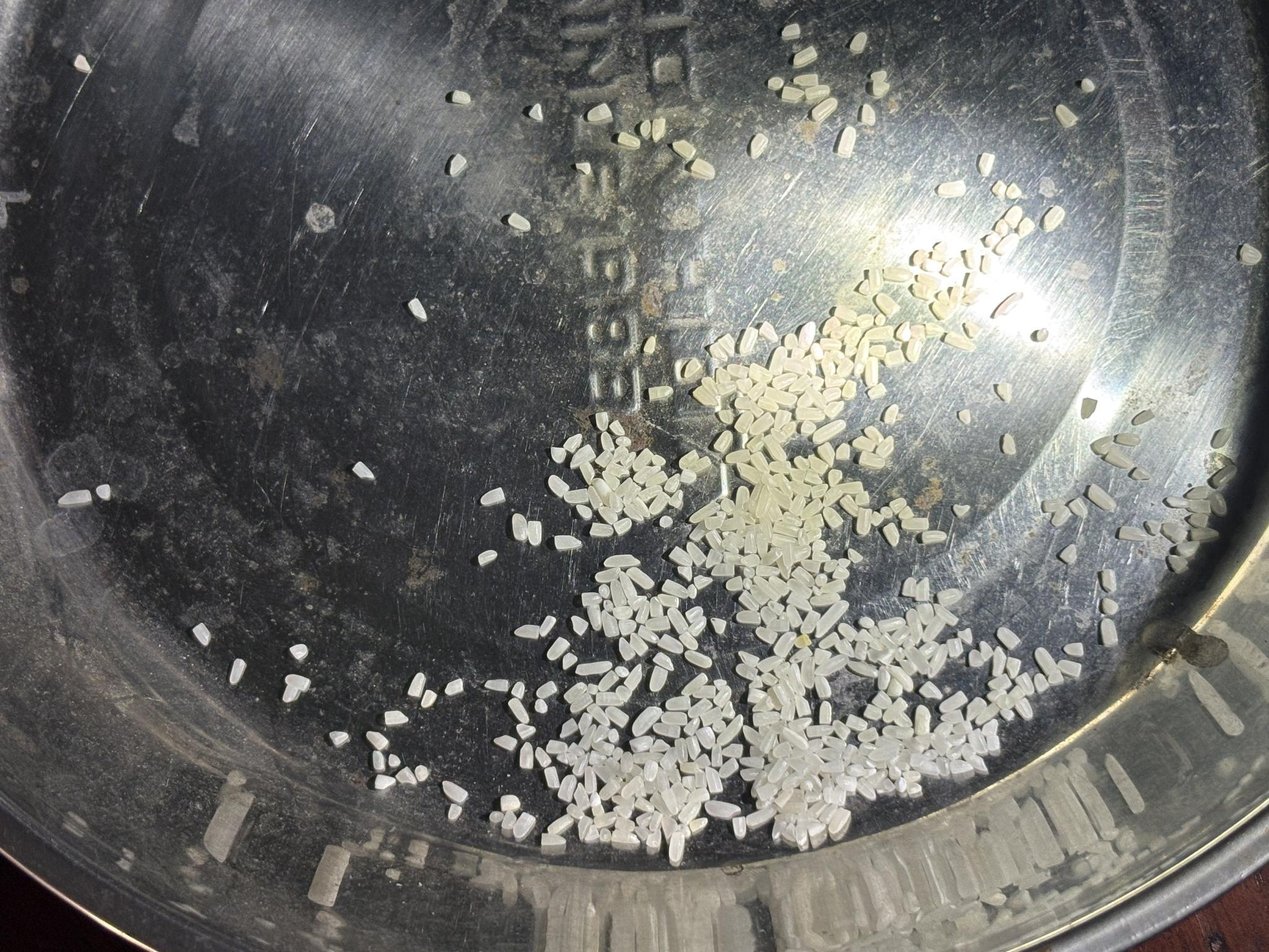Rice-th-y-nh: (815, 598, 849, 639), (1034, 646, 1065, 685), (630, 704, 663, 738), (812, 418, 846, 446), (717, 713, 744, 747), (1087, 483, 1118, 512), (616, 570, 640, 607), (815, 652, 849, 678), (746, 803, 778, 830), (666, 830, 689, 867), (784, 662, 807, 698), (736, 325, 762, 356), (927, 644, 950, 679), (681, 671, 709, 699), (961, 747, 989, 775), (904, 646, 930, 676), (762, 433, 788, 462), (889, 664, 915, 693), (779, 726, 809, 751), (625, 566, 655, 591), (763, 386, 797, 408), (689, 500, 720, 524), (772, 630, 797, 659), (556, 773, 579, 804), (910, 754, 941, 777), (753, 576, 780, 602), (569, 444, 596, 470), (586, 701, 611, 729), (736, 461, 764, 486), (741, 724, 766, 752), (652, 719, 682, 742), (938, 690, 968, 713), (796, 320, 819, 350), (714, 367, 737, 397), (598, 776, 624, 802), (678, 798, 703, 825), (687, 695, 714, 720), (922, 615, 946, 643), (657, 632, 685, 656), (661, 577, 689, 601), (692, 386, 720, 410), (441, 780, 469, 804), (753, 486, 774, 518), (868, 743, 901, 763), (604, 704, 630, 729), (875, 292, 901, 317), (767, 485, 792, 511), (649, 792, 674, 818), (771, 472, 795, 499), (932, 602, 959, 626), (546, 813, 574, 836), (647, 666, 670, 694), (809, 590, 841, 610), (882, 723, 914, 743), (684, 648, 713, 670), (571, 783, 593, 812), (592, 477, 613, 507), (749, 412, 775, 436), (546, 636, 570, 662), (811, 98, 837, 122), (748, 361, 774, 385), (507, 697, 530, 724), (799, 609, 822, 636), (514, 620, 541, 643), (623, 663, 645, 691), (633, 463, 661, 485), (967, 728, 989, 756), (577, 723, 598, 752), (735, 397, 764, 418), (996, 626, 1021, 650), (695, 725, 718, 751), (668, 545, 694, 568), (965, 696, 988, 722), (913, 601, 936, 627), (995, 233, 1021, 256), (757, 652, 784, 674), (964, 243, 986, 270), (704, 766, 725, 794), (563, 681, 587, 705), (569, 691, 594, 714), (787, 578, 813, 600), (783, 355, 809, 377), (616, 636, 637, 663), (816, 441, 837, 468), (865, 266, 886, 293), (786, 592, 813, 613), (766, 685, 786, 713), (821, 506, 844, 530), (791, 566, 815, 589), (547, 474, 570, 498), (975, 703, 999, 726), (822, 484, 845, 508), (901, 515, 930, 534), (585, 602, 604, 631), (766, 613, 791, 635), (648, 491, 670, 516), (628, 632, 650, 657), (632, 447, 654, 472), (590, 763, 615, 785), (875, 435, 897, 460), (686, 541, 707, 567), (792, 693, 813, 719), (913, 577, 934, 603), (595, 565, 621, 586), (735, 608, 762, 628), (771, 371, 798, 391), (755, 624, 779, 646), (598, 669, 620, 693), (652, 651, 676, 673), (734, 661, 759, 682), (655, 591, 681, 611), (587, 103, 613, 123), (749, 133, 769, 159), (749, 451, 771, 474), (569, 614, 591, 637), (718, 756, 740, 779), (839, 494, 860, 518), (688, 615, 709, 639), (789, 373, 813, 394), (407, 298, 428, 322), (730, 815, 750, 840), (833, 304, 858, 324), (542, 765, 562, 790), (1175, 539, 1201, 558), (634, 599, 653, 625), (673, 737, 691, 764), (807, 454, 829, 476), (749, 584, 771, 606), (834, 638, 857, 659), (631, 496, 652, 519), (637, 624, 660, 645), (855, 779, 876, 802), (507, 212, 531, 232), (823, 734, 847, 754), (793, 46, 817, 66), (591, 738, 615, 758), (628, 775, 648, 799), (691, 158, 715, 178), (407, 672, 426, 697), (713, 684, 732, 709), (788, 715, 813, 734), (1057, 659, 1082, 678), (693, 682, 718, 701), (874, 665, 893, 690), (1116, 430, 1141, 449), (638, 484, 663, 503), (820, 577, 846, 595), (684, 734, 702, 760), (771, 531, 797, 549), (228, 659, 246, 685), (772, 520, 798, 538), (792, 824, 810, 850), (831, 719, 852, 741), (678, 449, 700, 470), (768, 575, 790, 596), (738, 591, 760, 612), (617, 616, 638, 638), (836, 773, 858, 794), (845, 713, 868, 733), (1015, 673, 1035, 696), (917, 640, 940, 660), (366, 731, 389, 751), (704, 511, 727, 531), (806, 722, 833, 739), (919, 681, 943, 700), (493, 734, 517, 753), (788, 479, 812, 498), (785, 604, 803, 629), (285, 673, 310, 691), (725, 447, 750, 465), (711, 561, 736, 579), (578, 460, 596, 485), (720, 516, 746, 533), (678, 630, 699, 651), (872, 689, 893, 710), (559, 718, 580, 739), (747, 381, 768, 402), (761, 546, 783, 566), (823, 399, 845, 419), (582, 822, 602, 844), (538, 615, 557, 638), (714, 430, 733, 453), (790, 645, 813, 664), (613, 816, 636, 835), (737, 649, 760, 668), (708, 743, 726, 767), (644, 470, 668, 488), (598, 506, 619, 526), (772, 409, 792, 430), (563, 433, 583, 454), (591, 724, 611, 745), (663, 472, 682, 494), (534, 747, 553, 769), (353, 461, 375, 480), (683, 716, 702, 738), (500, 809, 519, 831), (900, 576, 919, 598), (726, 362, 749, 380), (989, 673, 1012, 691), (193, 623, 211, 646), (1005, 656, 1022, 680), (769, 459, 793, 476), (755, 563, 779, 580), (566, 802, 586, 822), (940, 709, 965, 725), (805, 84, 830, 100), (485, 678, 510, 694), (836, 358, 855, 379), (515, 722, 536, 741), (613, 517, 634, 536), (396, 767, 417, 786), (812, 647, 833, 666), (623, 505, 644, 524), (945, 637, 964, 658), (837, 622, 858, 641), (759, 605, 778, 626), (601, 470, 620, 491), (819, 632, 841, 650), (722, 742, 744, 760), (556, 749, 578, 767), (549, 445, 568, 465), (885, 678, 904, 698), (704, 548, 723, 568), (705, 529, 723, 550), (896, 321, 914, 342), (634, 796, 655, 814), (854, 311, 875, 329), (444, 678, 465, 696), (561, 651, 579, 672), (790, 546, 811, 564), (794, 73, 819, 88), (757, 396, 779, 413), (612, 603, 634, 620), (819, 336, 842, 352), (374, 774, 397, 790), (617, 132, 640, 148), (577, 712, 593, 735), (575, 503, 594, 522), (594, 449, 613, 468), (893, 711, 913, 729), (863, 703, 883, 721), (1033, 673, 1051, 693), (826, 468, 844, 488), (599, 431, 616, 452), (619, 751, 636, 772), (781, 511, 802, 528), (679, 760, 700, 777), (477, 549, 498, 566), (648, 597, 665, 618), (857, 727, 879, 743), (978, 641, 994, 663), (832, 785, 848, 807), (739, 766, 761, 782), (725, 575, 744, 593), (799, 418, 817, 437), (1101, 597, 1120, 615), (934, 756, 951, 776), (420, 689, 437, 709), (329, 730, 349, 747), (801, 558, 822, 574), (740, 553, 761, 569), (923, 257, 944, 273), (932, 721, 953, 737), (669, 488, 685, 509), (823, 375, 845, 390), (782, 332, 800, 350), (869, 343, 887, 361), (854, 489, 871, 508), (889, 496, 908, 513), (957, 627, 974, 646), (968, 649, 985, 668), (810, 483, 829, 500), (681, 774, 698, 793), (746, 439, 766, 455), (822, 386, 842, 402), (986, 688, 1007, 703), (769, 719, 787, 736), (677, 564, 694, 582), (717, 408, 735, 425), (735, 377, 753, 394), (720, 497, 736, 516), (952, 503, 971, 519), (694, 753, 711, 770), (761, 672, 779, 688), (447, 803, 463, 821), (832, 566, 851, 581), (810, 342, 825, 361), (811, 550, 832, 563), (609, 420, 626, 436), (679, 469, 697, 484), (613, 663, 631, 678), (823, 558, 839, 574), (847, 548, 863, 563), (488, 809, 505, 823), (814, 572, 828, 588), (651, 454, 667, 467)
